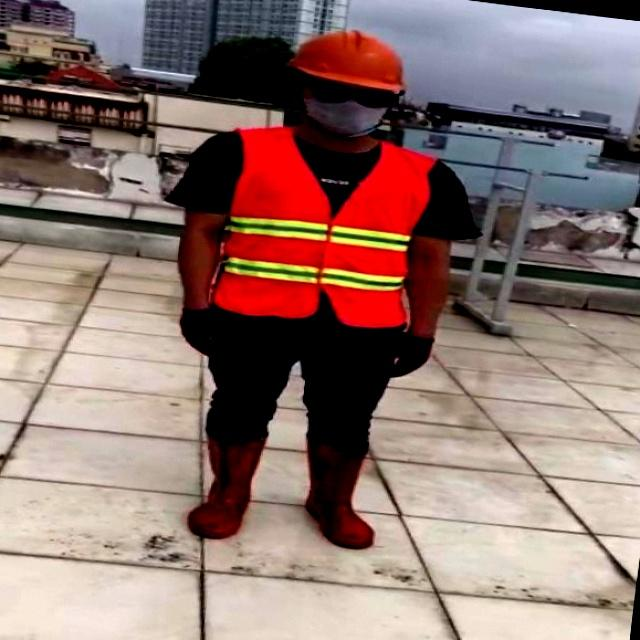Capacete: (290, 31, 404, 92)
Colete: (213, 128, 434, 327)
Oculos: (310, 82, 397, 107)
